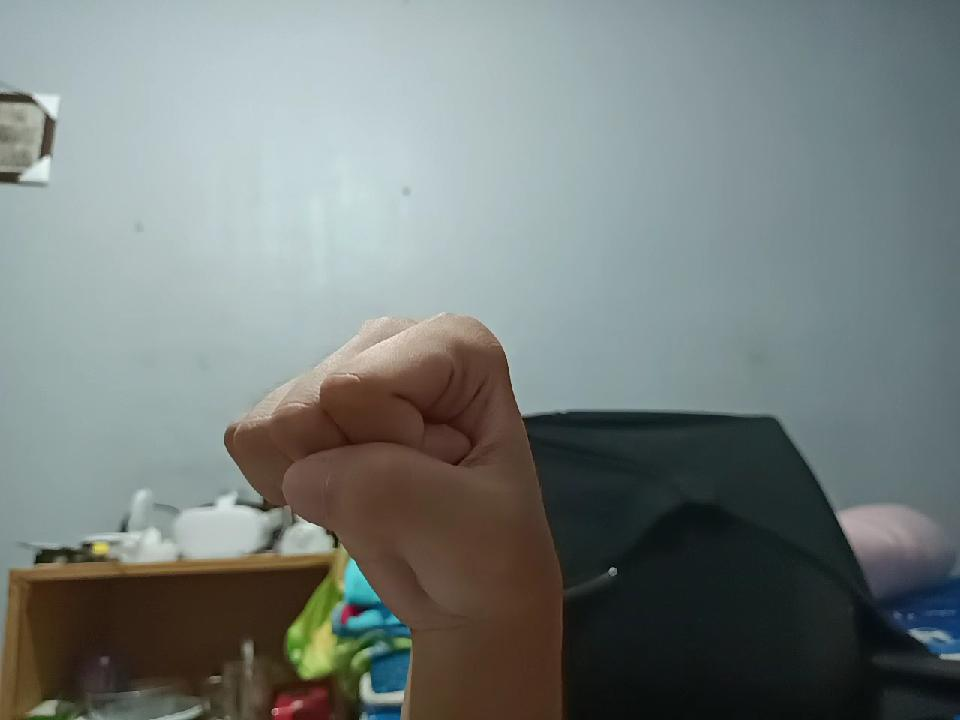rock: (214, 280, 538, 662)
